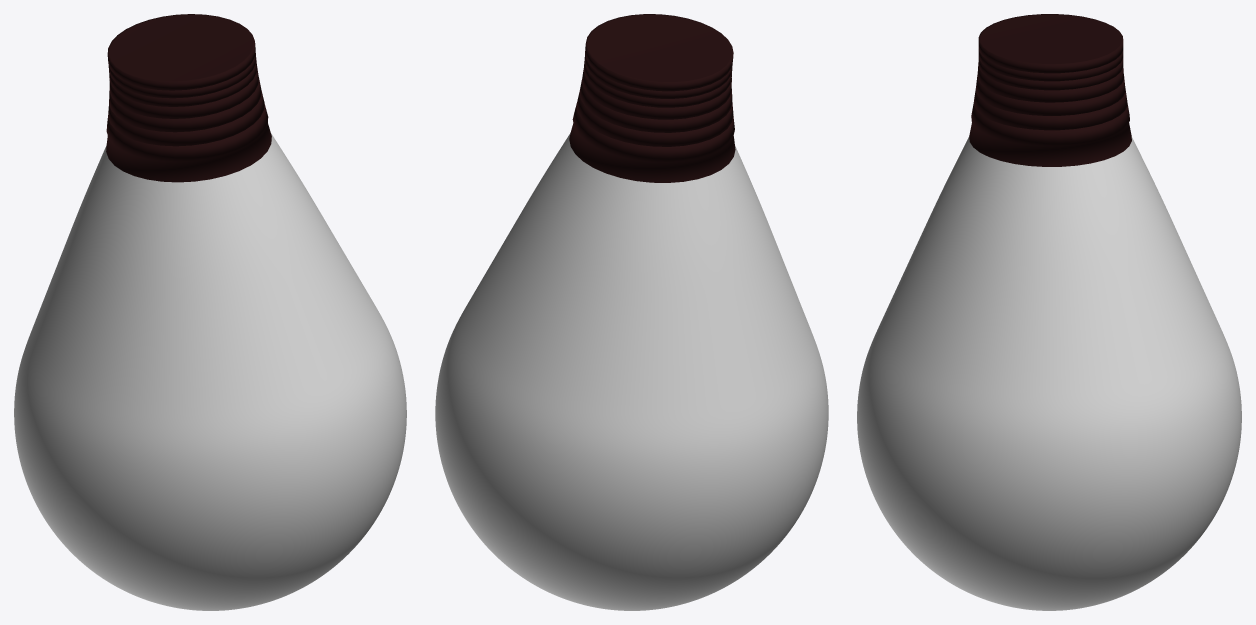
The model's file is Foco_unit.fbx.
3 renders of one model, left to right at view 1: azimuth 30°, elevation 25°; view 2: azimuth 150°, elevation 25°; view 3: azimuth 270°, elevation 25°, orthographic. The views are drawn at different scales.
Parts seen in each view (by area): view 1: Sphere.006, Sphere; view 2: Sphere.006, Sphere; view 3: Sphere.006, Sphere.
Boxes of the visible parts, x1=… form: Sphere.006: x1=14, y1=133, x2=406, y2=610; Sphere: x1=106, y1=14, x2=271, y2=182; Sphere.006: x1=435, y1=133, x2=828, y2=610; Sphere: x1=569, y1=14, x2=735, y2=182; Sphere.006: x1=857, y1=136, x2=1241, y2=610; Sphere: x1=969, y1=14, x2=1131, y2=166.
Size of the model in its own units: 196 by 307 by 196.
